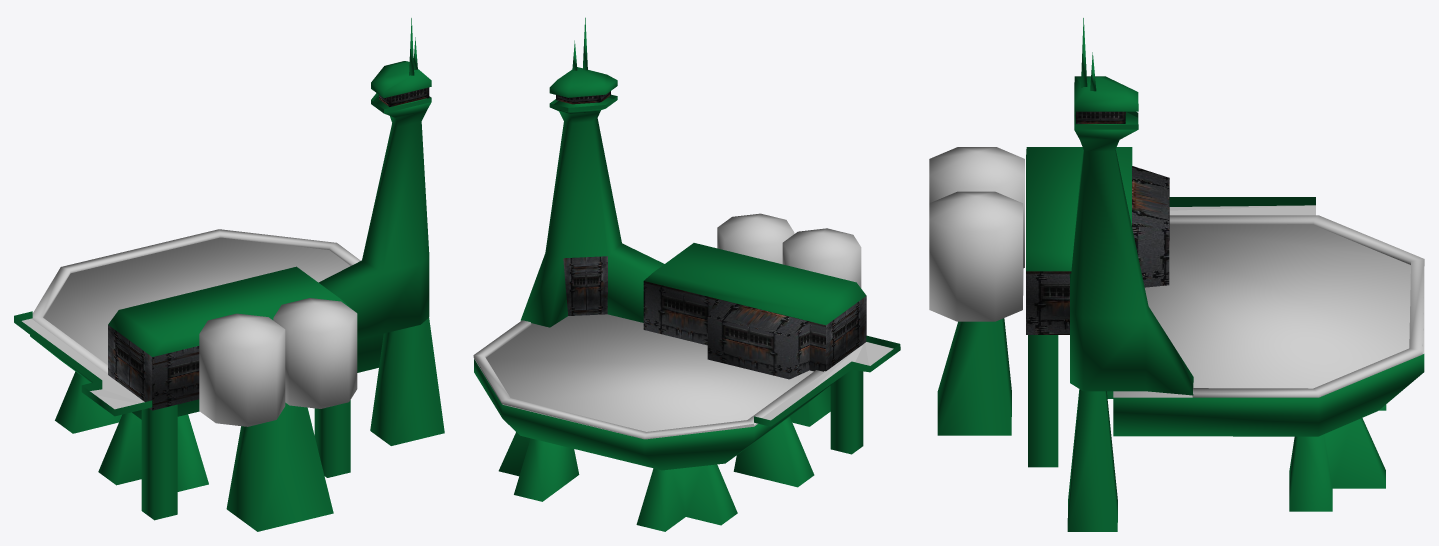
Rendered from LandPad.FBX.
3 views of the same model, side by side, from view 1: azimuth 30°, elevation 25°; view 2: azimuth 150°, elevation 25°; view 3: azimuth 270°, elevation 25° (orthographic). The views are drawn at different scales.
Parts seen in each view (by area): view 1: box01-FACES01; view 2: box01-FACES01; view 3: box01-FACES01.
Boxes of the visible parts, x1,y1,x2,y2 form: box01-FACES01: (14, 18, 444, 531); box01-FACES01: (473, 17, 900, 531); box01-FACES01: (929, 18, 1424, 531).
Size of the model in its own units: 7.89 by 9.14 by 8.16.
